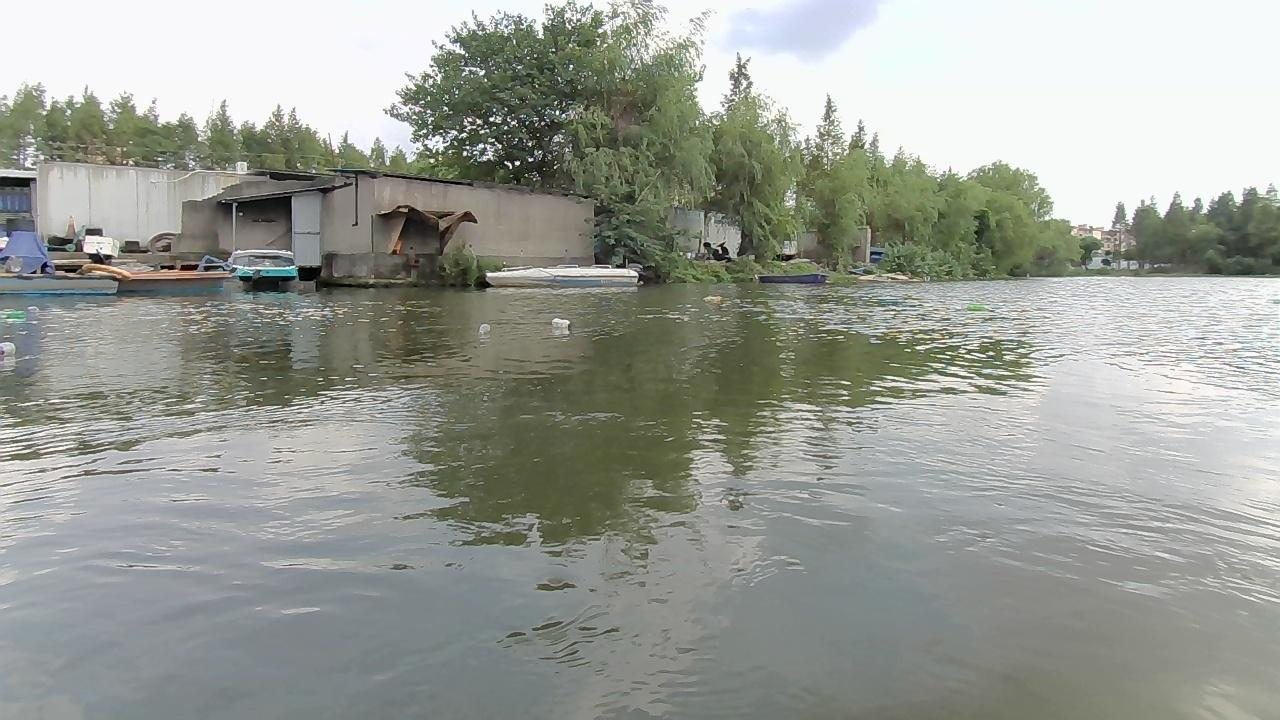bottle: (962, 305, 998, 317), (550, 317, 573, 332), (474, 320, 491, 333), (702, 299, 725, 307)
